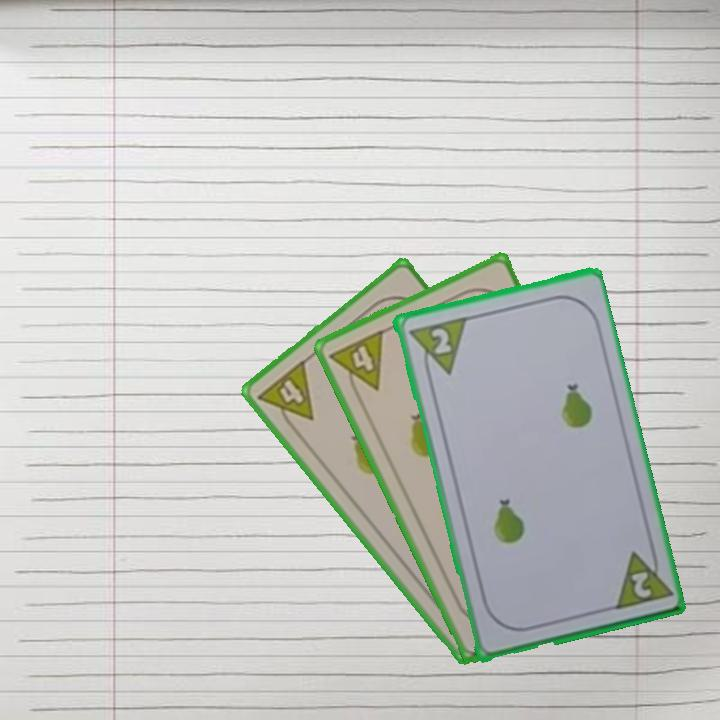2p: (608, 543, 673, 613), (404, 313, 468, 382)
4p: (253, 356, 317, 436), (326, 326, 387, 402)
